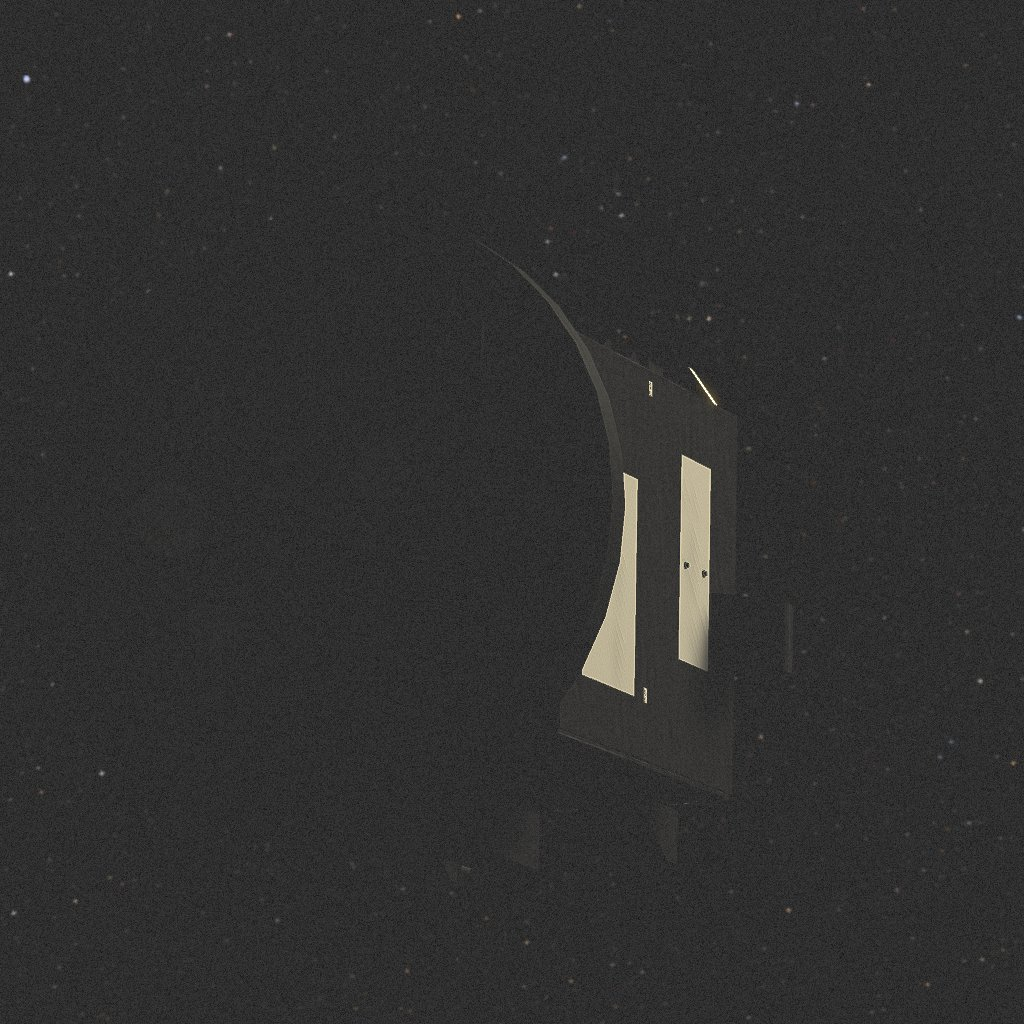proba_3_ocs: (35, 209, 793, 891)
